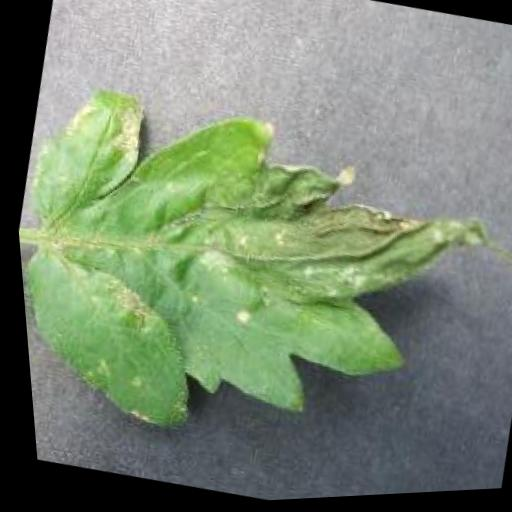Late Blight: (5, 55, 512, 502)
